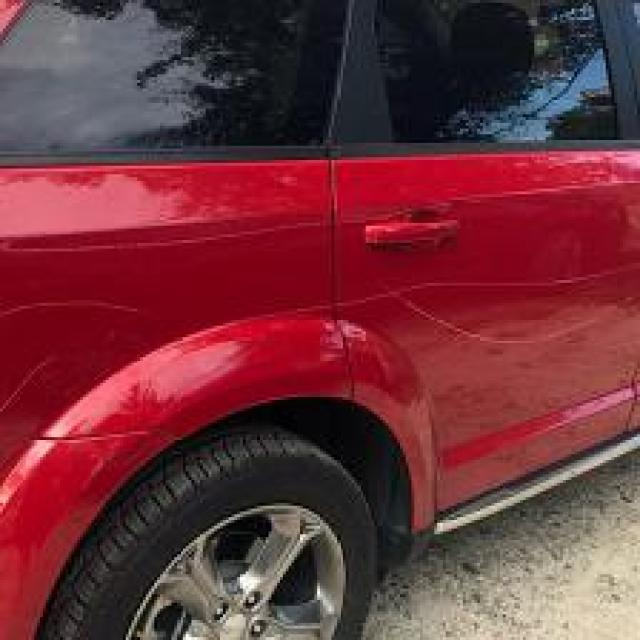door_scratch_minor: (374, 289, 580, 343)
